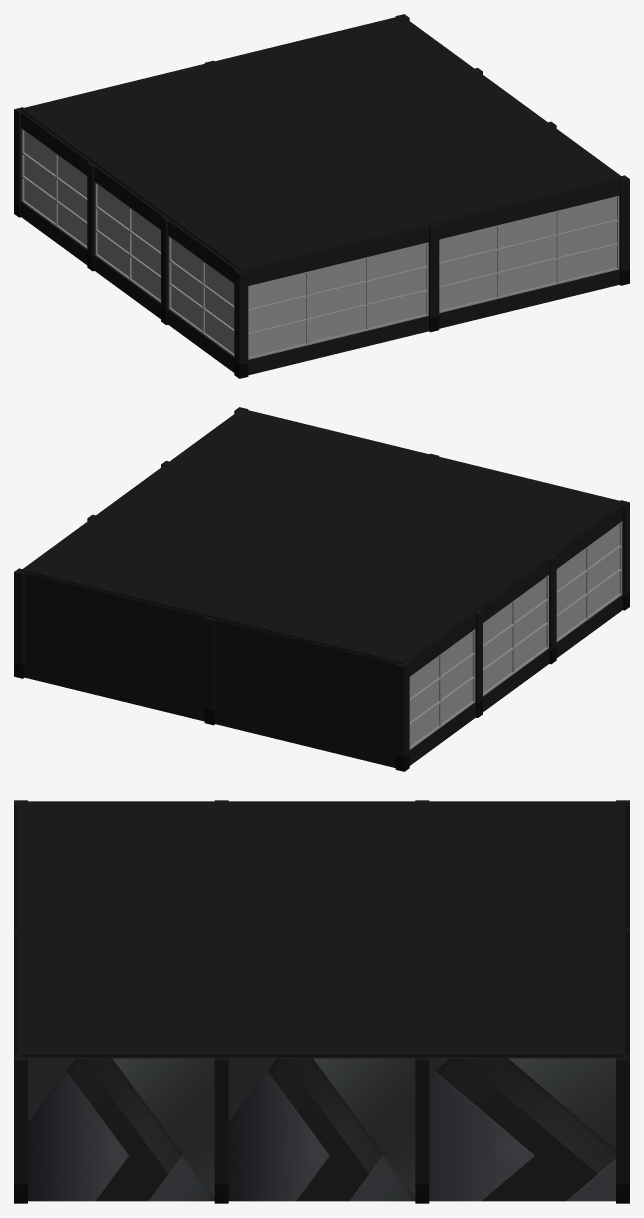
File: Hall.FBX
The picture shows the model from 3 angles, top to bottom: view 1: azimuth 30°, elevation 25°; view 2: azimuth 150°, elevation 25°; view 3: azimuth 270°, elevation 25°; orthographic projection. The views are drawn at different scales.
Parts seen in each view (by area): view 1: 1, Glass, 4, Glass2, 3, 2; view 2: 1, 4, Glass2, 2, 3; view 3: 1, 4, 2.
Boxes of the visible parts, x1,y1,x2,y2 form: 1: (21,16,621,271); Glass: (248,197,616,357); 4: (21,18,620,375); Glass2: (24,131,234,353); 3: (21,128,619,359); 2: (14,14,629,378); 1: (22,409,622,664); 4: (23,411,622,767); Glass2: (409,524,619,746); 2: (14,407,629,771); 3: (409,521,622,749); 1: (21,801,622,1056); 4: (17,806,625,1201); 2: (14,800,629,1203).
Bounding box in the file's own units: 27.63 × 27.64 × 7.19.
